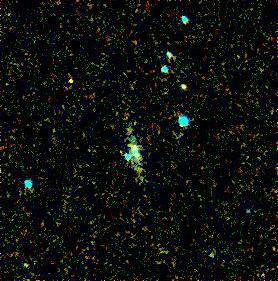star: (134, 132, 164, 162)
